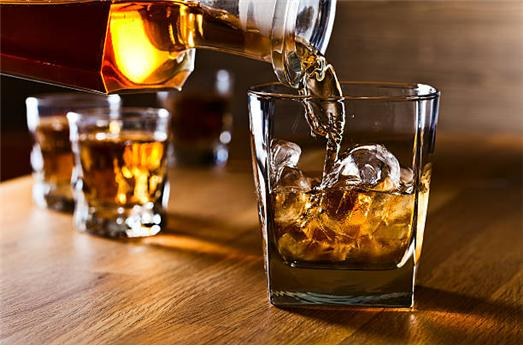alcohol: (248, 82, 444, 313), (0, 0, 337, 98), (65, 108, 169, 242), (24, 95, 111, 215)
